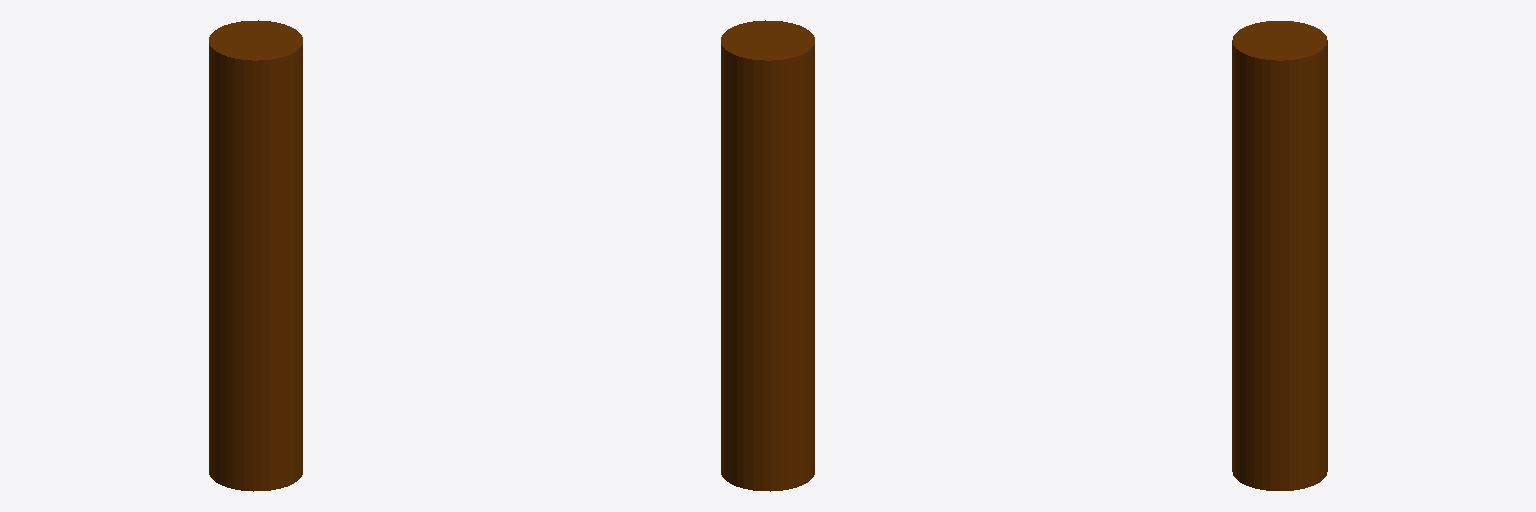
The robot description file, URDF, robot "stamp":
<robot name="stamp">
  <link name="stamp">
    <collision>
      <origin xyz="0 0 0" />
      <geometry>
        <cylinder length="0.20" radius="0.02" />
      </geometry>
    </collision>
    <visual>
      <origin xyz="0 0 0" />
      <material name="c">
        <color rgba="0.45 0.25 0.05 1.0" />
      </material>
      <geometry>
        <cylinder length="0.20" radius="0.02" />
      </geometry>
    </visual>
  </link>
</robot>

--- Facts derived from the render (not from the file) ---
Views: 3 orthographic renders of the robot side by side, from view 1: azimuth 30°, elevation 25°; view 2: azimuth 150°, elevation 25°; view 3: azimuth 270°, elevation 25°.
Model stamp with 1 links and 0 joints (none), rooted at stamp, posed all joints at 0.
Links seen in each view (by area): view 1: stamp; view 2: stamp; view 3: stamp.
Boxes of the visible links, bbox=[...] form: stamp: bbox=[209, 20, 302, 491]; stamp: bbox=[721, 20, 814, 491]; stamp: bbox=[1232, 21, 1327, 490].
Size in the robot's own frame: 0.04 by 0.04 by 0.2 metres.
Geometry: primitives only (box / cylinder / sphere), no mesh files.